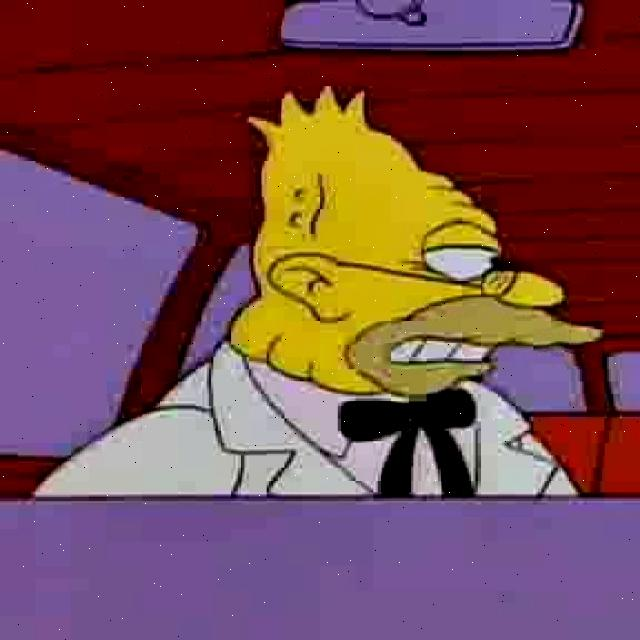Abraham Grampa Simpson: (222, 85, 608, 404)
